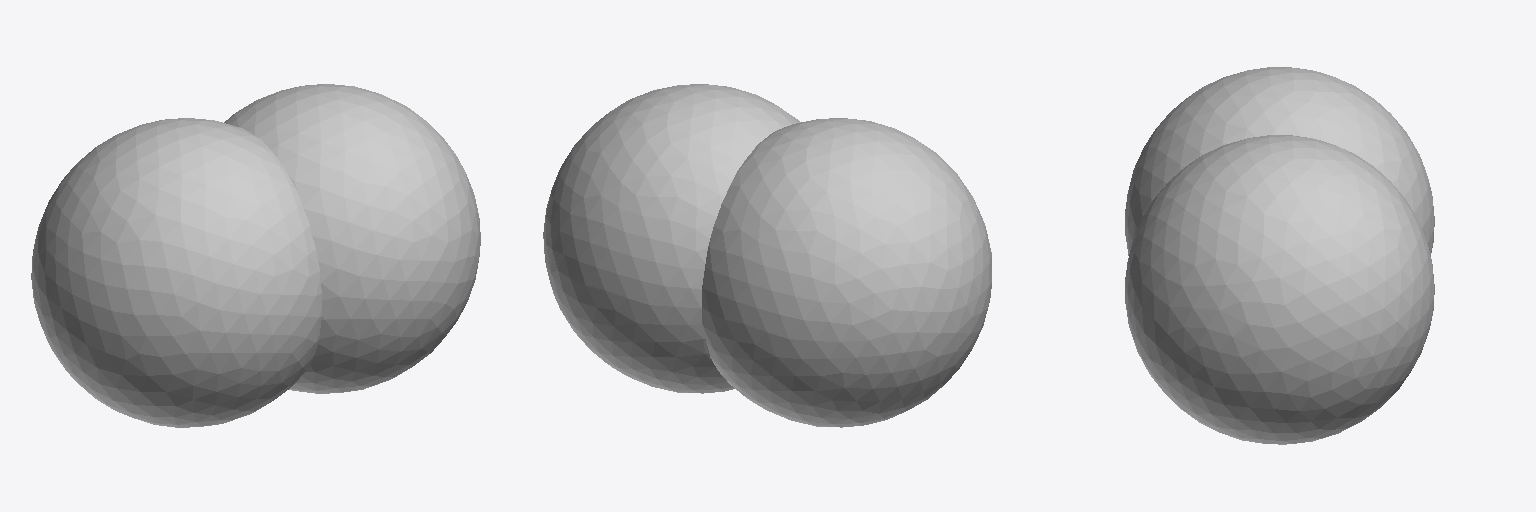
File: two_spheres.obj
3 views of the same model, side by side, from view 1: azimuth 30°, elevation 25°; view 2: azimuth 150°, elevation 25°; view 3: azimuth 270°, elevation 25° (orthographic).
Bounding box in the file's own units: 1.51 × 0.9941 × 0.9941.